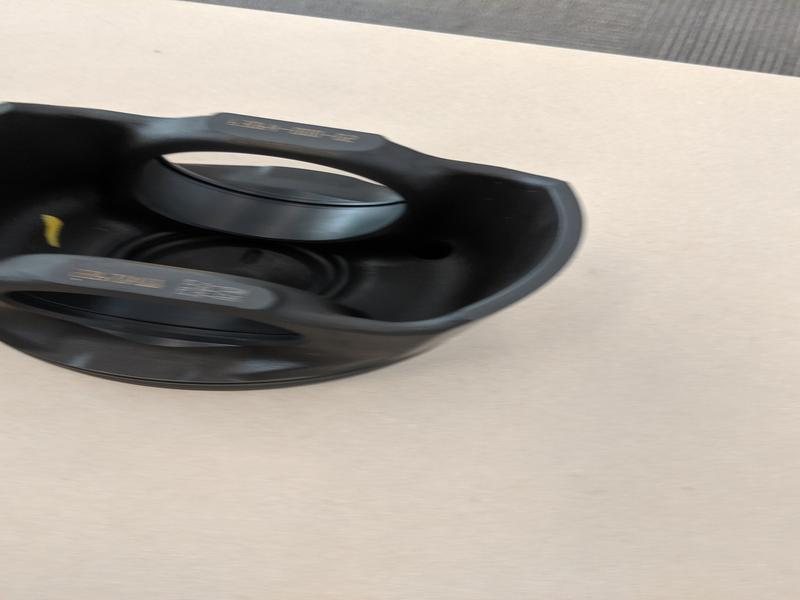piston: (1, 96, 586, 396)
